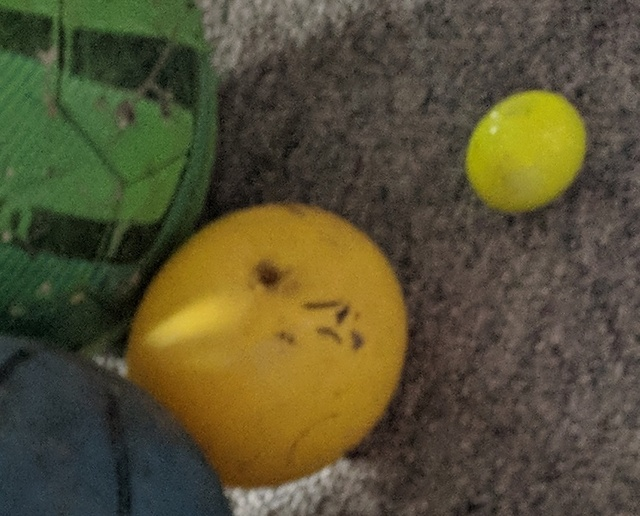ball: (470, 89, 590, 217)
